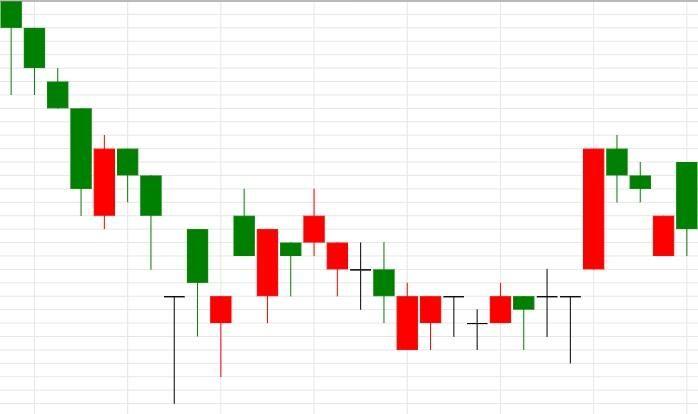hammer_rise: (117, 149, 231, 404)
